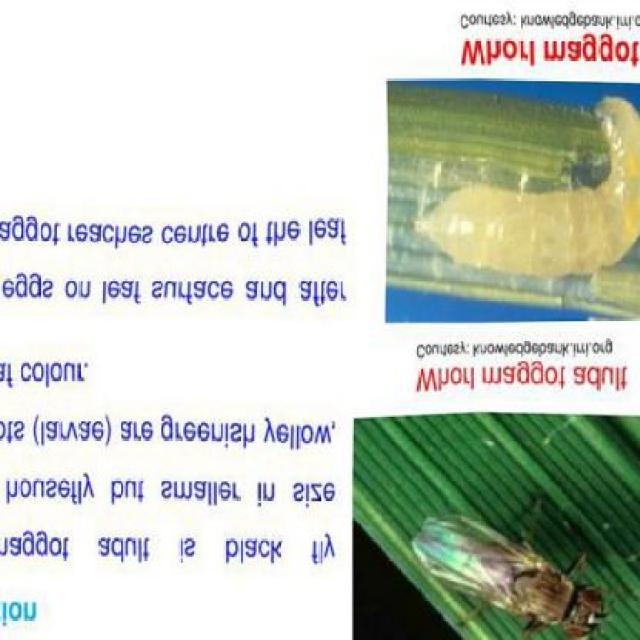whorl-maggot: (406, 92, 640, 308)
